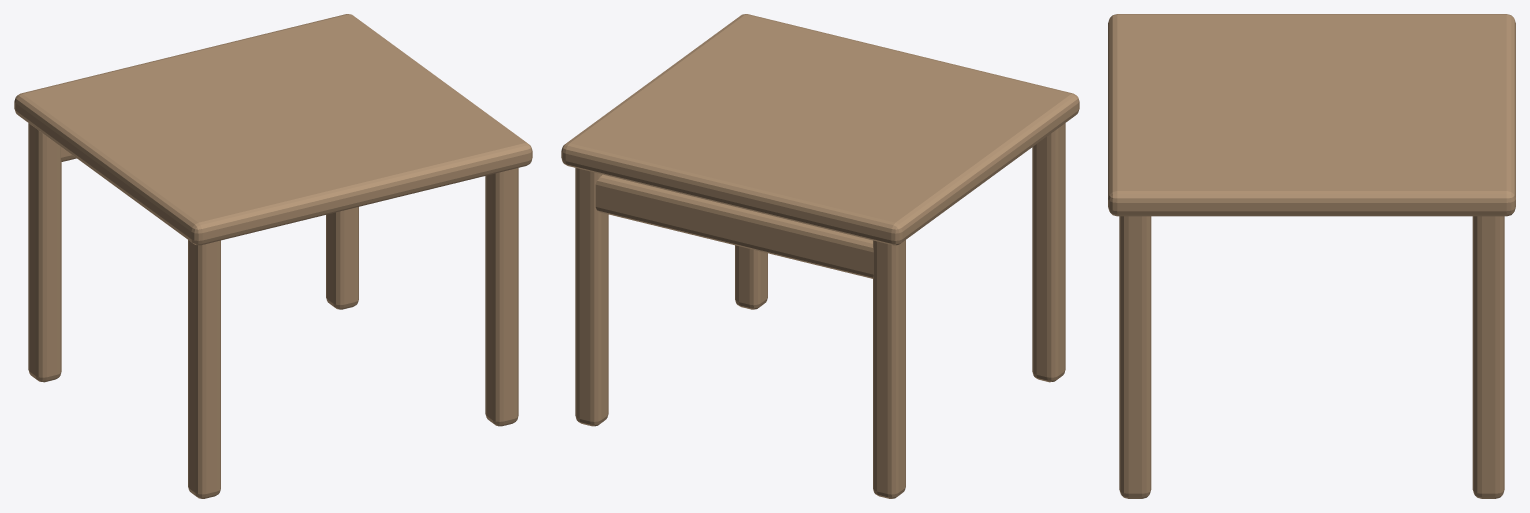
Rendered from OldDesk.fbx.
3 views of the same model, side by side, from view 1: azimuth 30°, elevation 25°; view 2: azimuth 150°, elevation 25°; view 3: azimuth 270°, elevation 25° (orthographic). The views are drawn at different scales.
Parts seen in each view (by area): view 1: OldDesk; view 2: OldDesk; view 3: OldDesk.
Boxes of the visible parts, x1,y1,x2,y2 form: OldDesk: (14, 14, 532, 498); OldDesk: (561, 14, 1079, 498); OldDesk: (1108, 14, 1515, 498).
Bounding box in the file's own units: 0.96 × 0.76 × 0.9.
